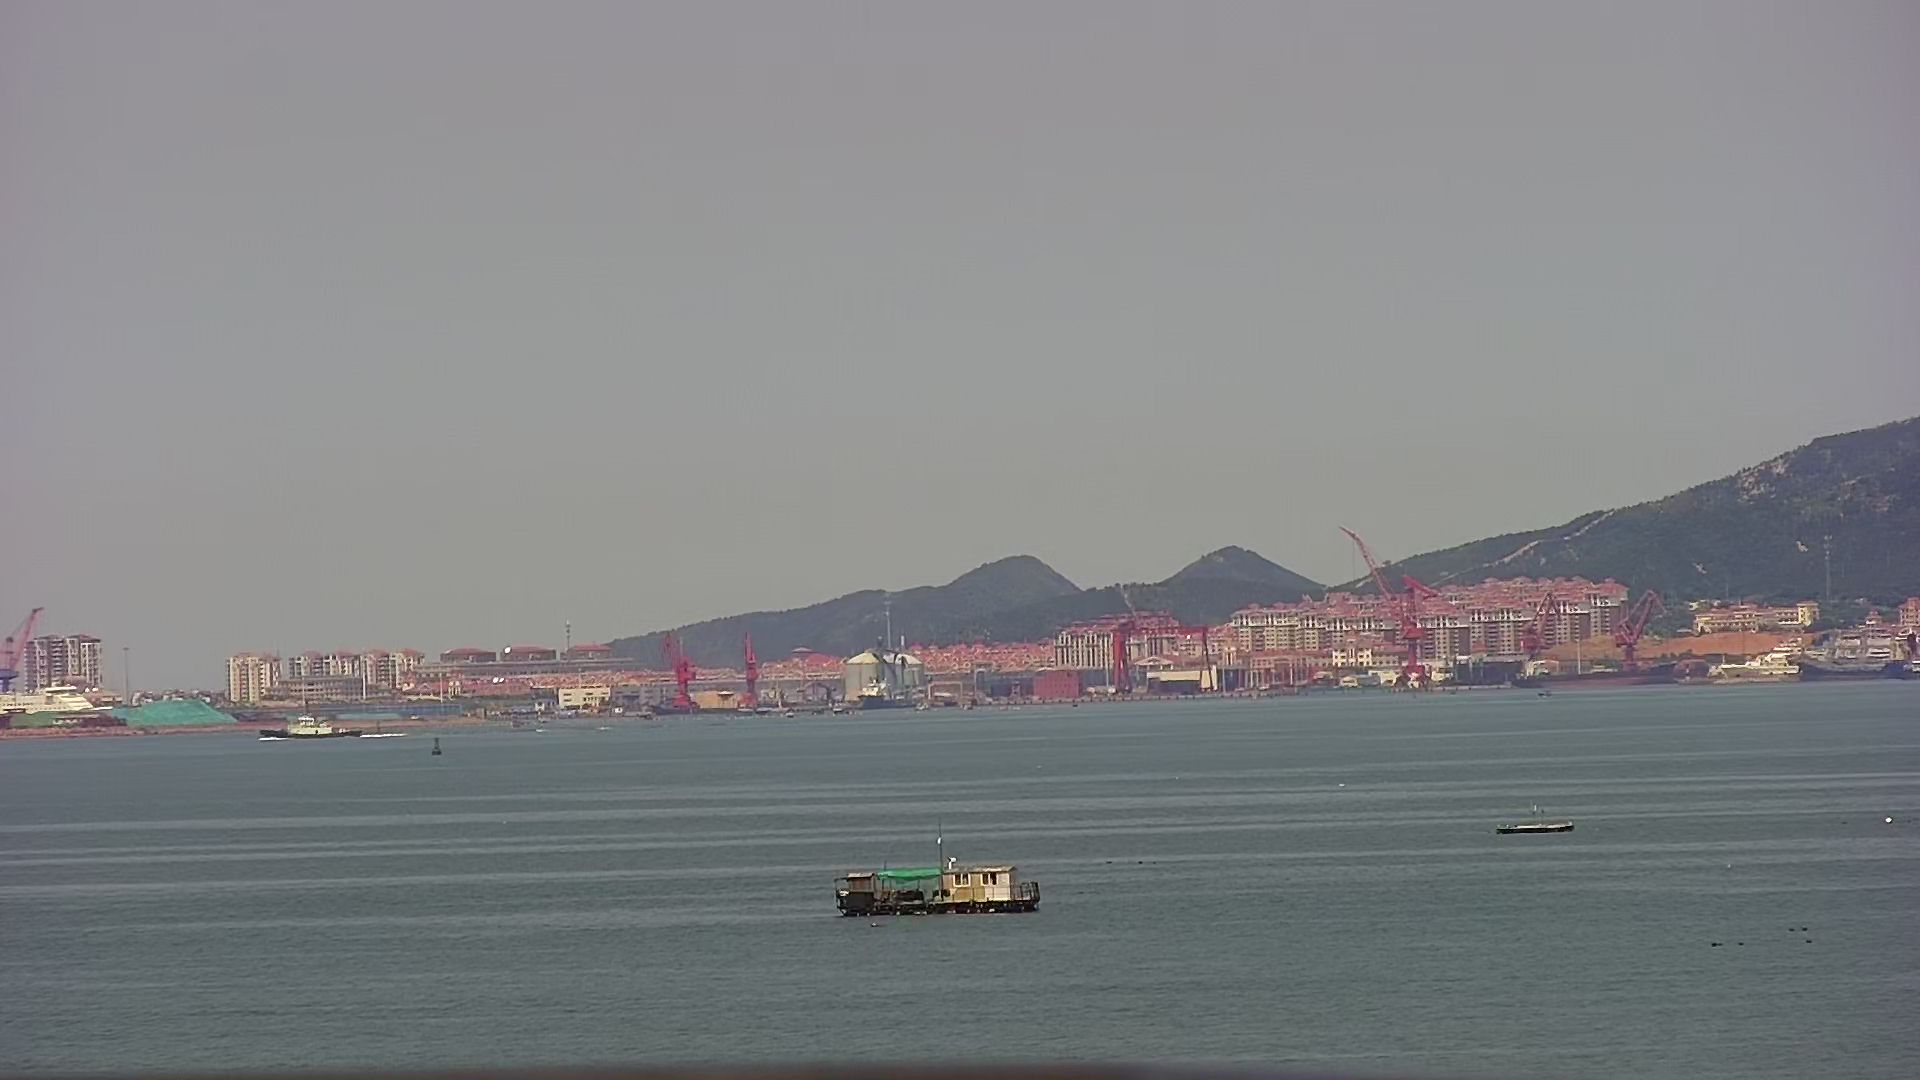boat: (1491, 798, 1575, 839)
buoy: (430, 728, 447, 756)
platform: (829, 819, 1044, 919)
ship: (258, 712, 367, 745)
